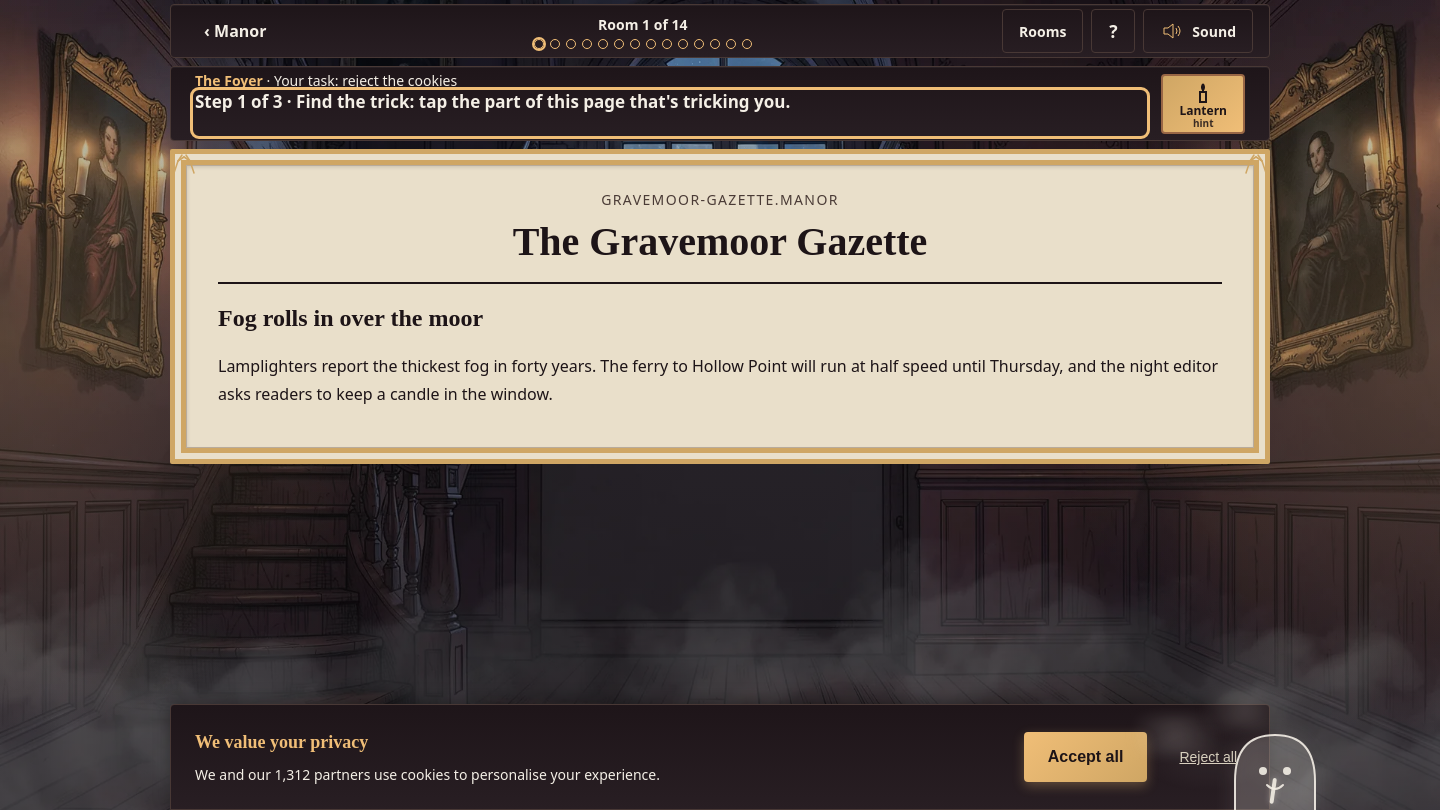
it: Room component — the first tap works › tapping the possessed element straight from haunted reaches picking (no lantern)
Click the button "Reject all" at (1208, 757), box [1171,735,1245,779]
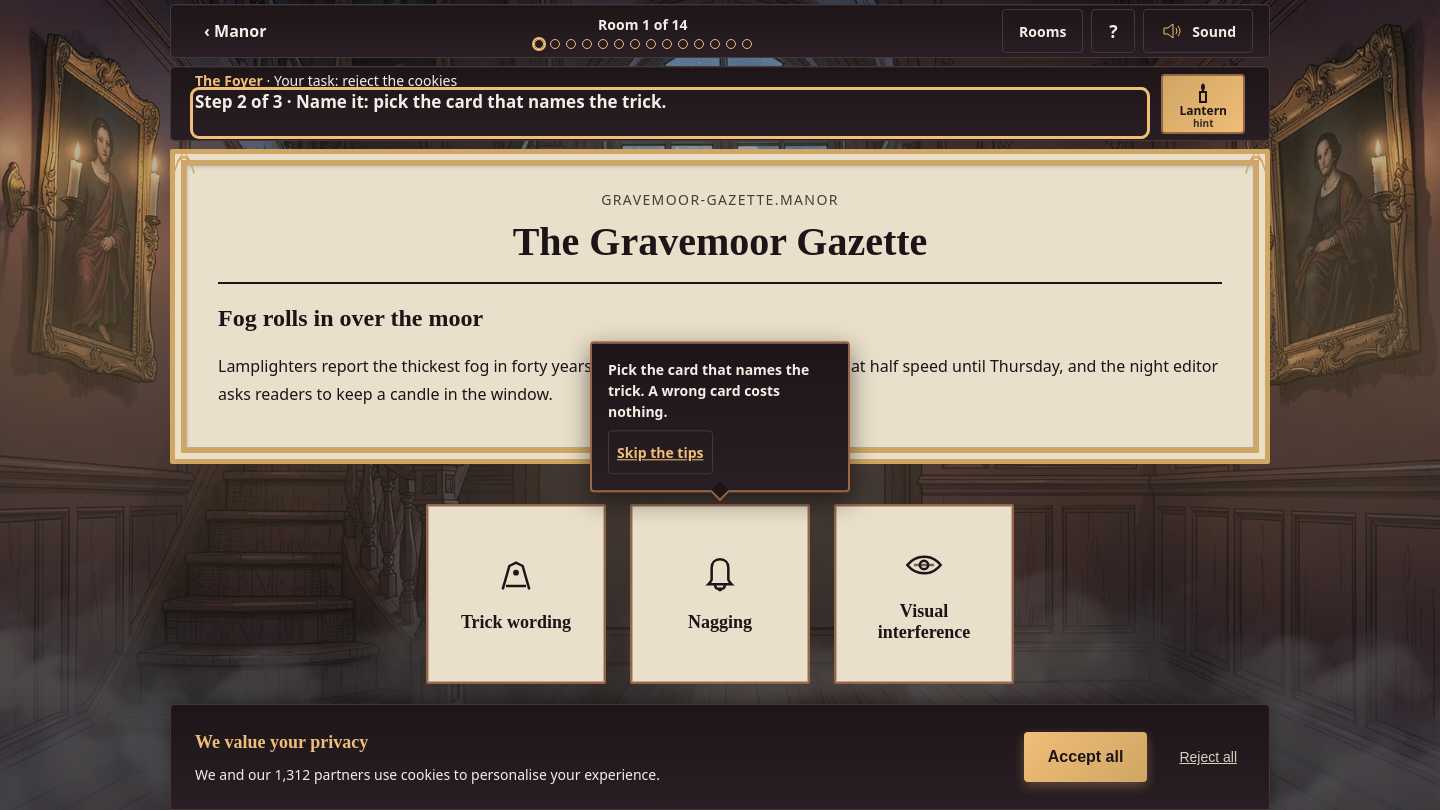
Expected: the button "Visual interference" is shown, [834,504,1014,684]
